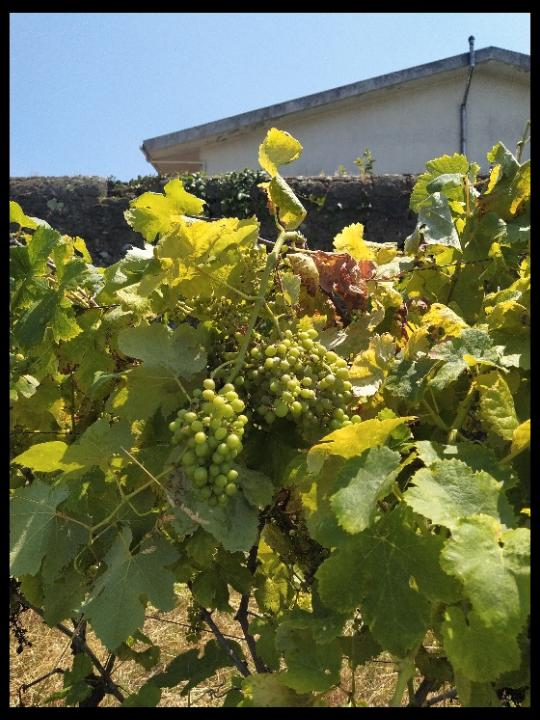grape: (244, 325, 365, 435), (167, 377, 250, 511)
